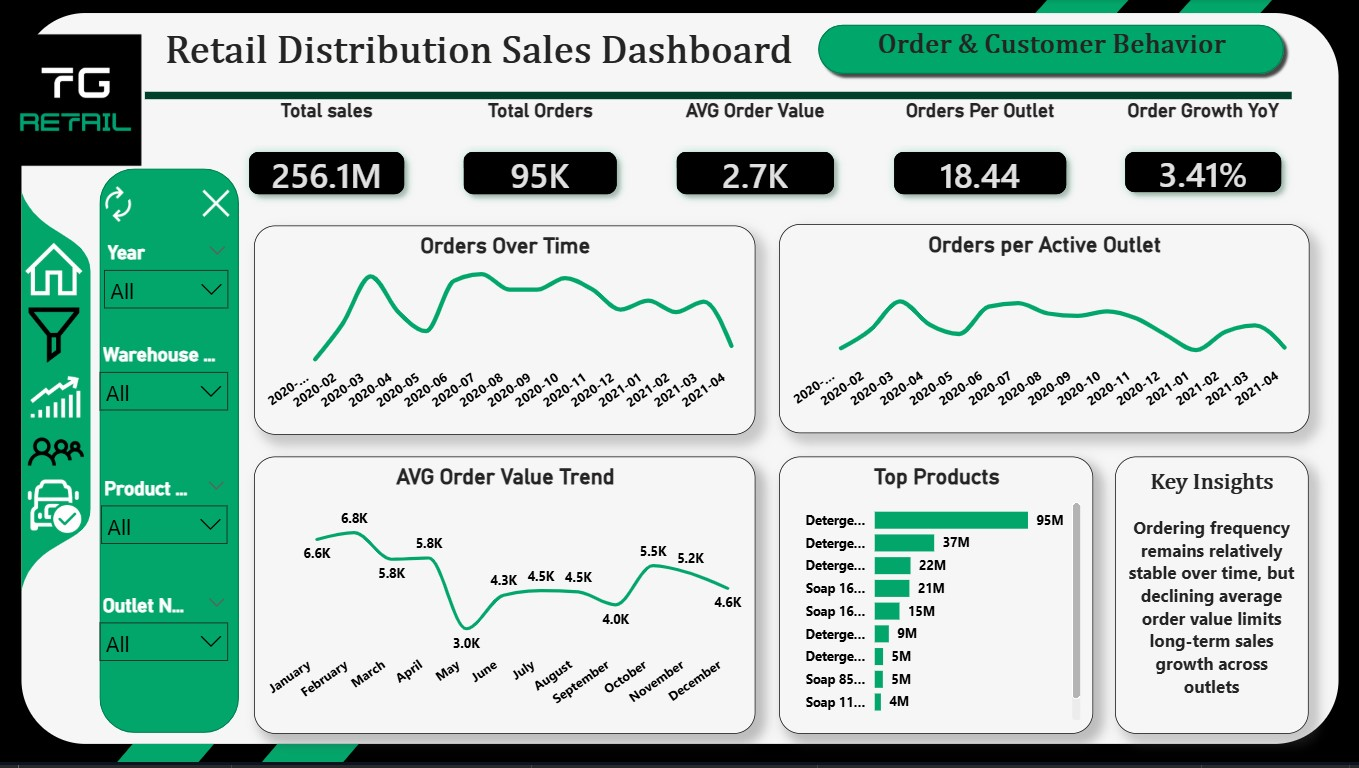

What the dashboard file says about the page in this screenshot:
{"tool":"powerbi","page":{"name":"Order & Customer Behavior","canvas":[1280,720],"ordinal":2},"visuals":[{"type":"cardVisual","title":"AVG Order Value","fields":{"Data":["key_Measures.Avg Order Value"]},"box":[607.1,94.3,206.1,118.2],"z":0},{"type":"image","title":"logo","box":[0,0,143.8,190.1],"z":1000},{"type":"textbox","box":[150.2,22.4,611.9,55.9],"z":2000},{"type":"shape","box":[762.1,17.6,452.1,60.7],"z":3000},{"type":"textbox","box":[806.8,22.4,365.9,55.9],"z":4000},{"type":"lineChart","title":"AVG Order Value Trend","fields":{"Y":["key_Measures.Avg Order Value"],"Category":["Calendar.Month Name"]},"box":[239.7,429.8,471.3,260.4],"z":5000},{"type":"cardVisual","title":"Order Growth YoY","fields":{"Data":["key_Measures.Order Growth % YoY"]},"box":[1028.8,94.3,205.4,116.5],"z":6000},{"type":"cardVisual","title":"Total Orders","fields":{"Data":["key_Measures.Count of Orders"]},"box":[407.4,94.3,202.9,118.2],"z":7000},{"type":"cardVisual","title":"Orders Per Outlet","fields":{"Data":["key_Measures.Orders Per Customer"]},"box":[811.6,94.3,220.5,118.2],"z":8000},{"type":"cardVisual","title":"Total sales","fields":{"Data":["key_Measures.Total Sales"]},"box":[206.1,94.3,204.5,118.2],"z":9000},{"type":"lineChart","title":"Orders Over Time","fields":{"Y":["key_Measures.Count of Orders"],"Category":["Calendar.Year-Month"]},"box":[239.7,212.5,471.3,196.5],"z":10000},{"type":"clusteredBarChart","title":"Top Products","fields":{"Category":["sales.Product Name"],"Y":["key_Measures.Total Sales"]},"box":[733.3,429.8,295.6,260.4],"z":11000},{"type":"image","title":"sales","box":[20.8,346.7,63.9,57.5],"z":12000},{"type":"image","title":"home","box":[16,223.7,71.9,62.3],"z":13000},{"type":"image","title":"supply","box":[6.4,447.3,87.9,57.5],"z":15000},{"type":"shape","title":"filter panel","box":[94.2,159.8,131,530.4],"z":17000,"group":"g1"},{"type":"group","id":"g1","title":"filters panel","box":[84.7,159.8,140.6,530.4],"z":17000},{"type":"image","title":"Filter Active","box":[16.5,280.4,69.3,70.9],"z":19000},{"type":"image","title":"close","box":[183.7,172.6,41.5,39.9],"z":19006,"group":"g1"},{"type":"image","title":"reset filters","box":[86.6,173.4,52,38.5],"z":19506,"group":"g1"},{"type":"slicer","title":"year slicer","fields":{"Values":["Calendar.Year"]},"box":[88.6,223.4,136.7,80.9],"z":20006,"group":"g1"},{"type":"slicer","title":"warehouse name slicer","fields":{"Values":["warehouse.Warehouse Name"]},"box":[84.7,319.7,140.6,109.8],"z":20506,"group":"g1"},{"type":"image","title":"Customers Active","box":[21.4,399.2,64.3,52.8],"z":21000},{"type":"slicer","title":"product name slicer","fields":{"Values":["sales.Product Name"]},"box":[86.6,444.9,138.7,109.8],"z":21006,"group":"g1"},{"type":"slicer","title":"outlet name slicer","fields":{"Values":["outlets.Outlet Name"]},"box":[84.7,554.7,140.6,115.5],"z":21506,"group":"g1"},{"type":"lineChart","title":"Orders per Active Outlet","fields":{"Category":["Calendar.Year-Month"],"Y":["key_Measures.Orders Per Customer"]},"box":[733.3,210.9,498.5,196.5],"z":23000},{"type":"textbox","box":[1049.7,429.8,182.1,260.4],"z":24000}]}

Visuals, with their boxes in screenshot pixels (x1, y1, x2, y2), scaled from the page's 1280x720 canvas onto the 1359x768 screenshot:
"AVG Order Value" cardVisual: {"left": 645, "top": 101, "right": 863, "bottom": 227}
"logo" image: {"left": 0, "top": 0, "right": 153, "bottom": 203}
textbox: {"left": 159, "top": 24, "right": 809, "bottom": 84}
shape: {"left": 809, "top": 19, "right": 1289, "bottom": 84}
textbox: {"left": 857, "top": 24, "right": 1245, "bottom": 84}
"AVG Order Value Trend" lineChart: {"left": 254, "top": 458, "right": 755, "bottom": 736}
"Order Growth YoY" cardVisual: {"left": 1092, "top": 101, "right": 1310, "bottom": 225}
"Total Orders" cardVisual: {"left": 433, "top": 101, "right": 648, "bottom": 227}
"Orders Per Outlet" cardVisual: {"left": 862, "top": 101, "right": 1096, "bottom": 227}
"Total sales" cardVisual: {"left": 219, "top": 101, "right": 436, "bottom": 227}
"Orders Over Time" lineChart: {"left": 254, "top": 227, "right": 755, "bottom": 436}
"Top Products" clusteredBarChart: {"left": 779, "top": 458, "right": 1092, "bottom": 736}
"sales" image: {"left": 22, "top": 370, "right": 90, "bottom": 431}
"home" image: {"left": 17, "top": 239, "right": 93, "bottom": 305}
"supply" image: {"left": 7, "top": 477, "right": 100, "bottom": 538}
"filter panel" shape: {"left": 100, "top": 170, "right": 239, "bottom": 736}
"filters panel" group: {"left": 90, "top": 170, "right": 239, "bottom": 736}
"Filter Active" image: {"left": 18, "top": 299, "right": 91, "bottom": 375}
"close" image: {"left": 195, "top": 184, "right": 239, "bottom": 227}
"reset filters" image: {"left": 92, "top": 185, "right": 147, "bottom": 226}
"year slicer" slicer: {"left": 94, "top": 238, "right": 239, "bottom": 325}
"warehouse name slicer" slicer: {"left": 90, "top": 341, "right": 239, "bottom": 458}
"Customers Active" image: {"left": 23, "top": 426, "right": 91, "bottom": 482}
"product name slicer" slicer: {"left": 92, "top": 475, "right": 239, "bottom": 592}
"outlet name slicer" slicer: {"left": 90, "top": 592, "right": 239, "bottom": 715}
"Orders per Active Outlet" lineChart: {"left": 779, "top": 225, "right": 1308, "bottom": 435}
textbox: {"left": 1114, "top": 458, "right": 1308, "bottom": 736}
